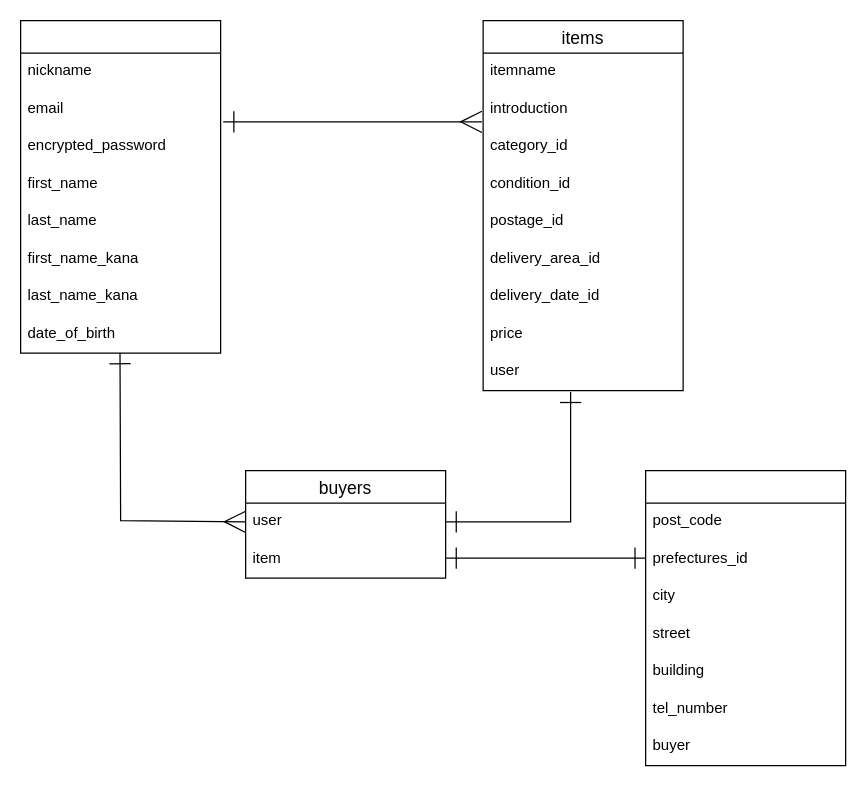
The diagram is 866 pixels wide and 786 high, and some of its shapes have lost their labels. The shapes that lost their labels are listed below. From the top down, each one's box as (x1, y1, x2, y2) in pixels, then its label:
(19, 19, 221, 353): users
(644, 469, 846, 766): delivery_address
